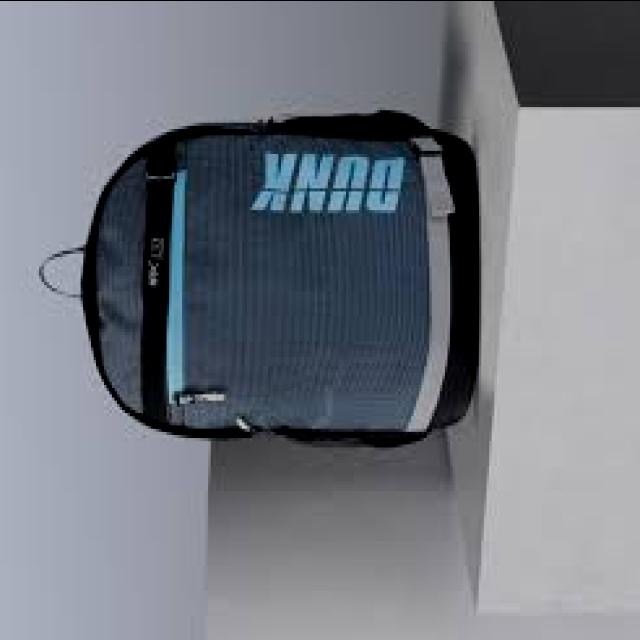backpack: (38, 111, 480, 451)
